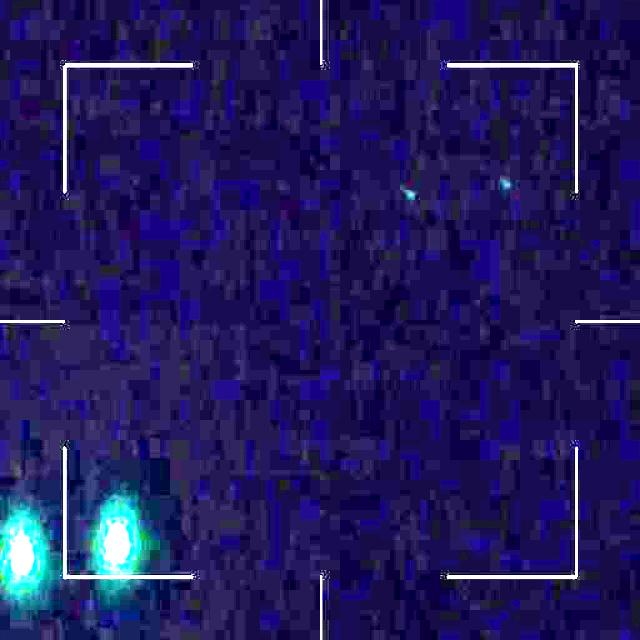bird: (0, 511, 134, 585)
